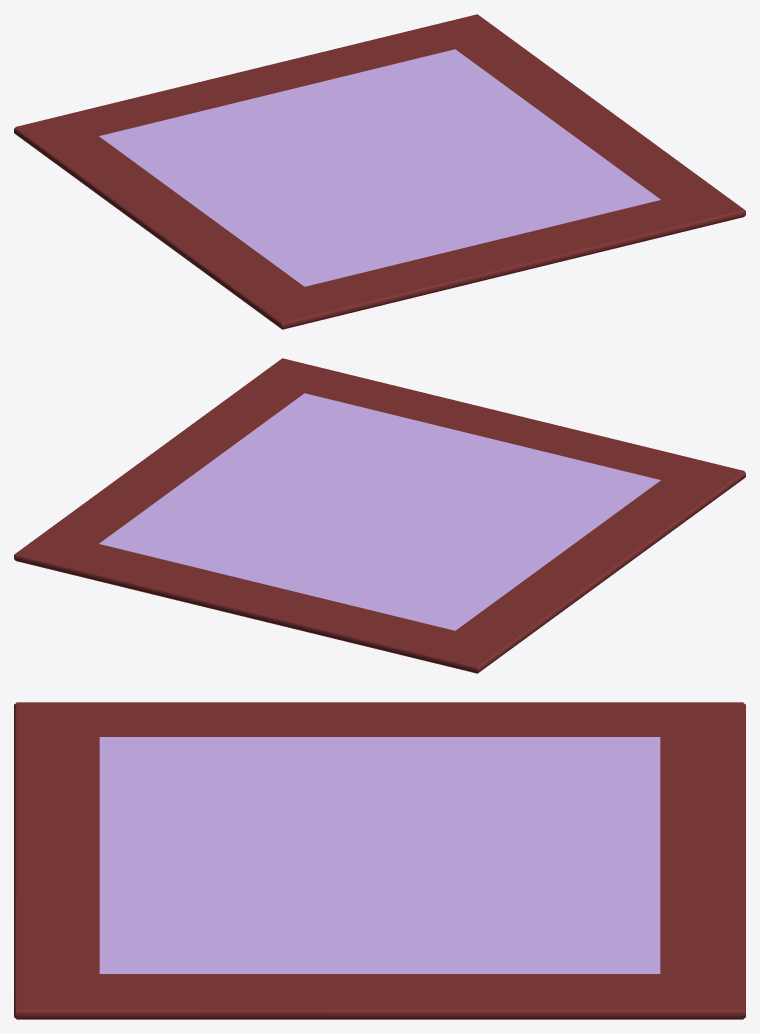
File: Vinyl_box_2.glb
3 renders of one model, top to bottom at view 1: azimuth 30°, elevation 25°; view 2: azimuth 150°, elevation 25°; view 3: azimuth 270°, elevation 25°, orthographic. The views are drawn at different scales.
Parts seen in each view (by area): view 1: Vinyl_box_2; view 2: Vinyl_box_2; view 3: Vinyl_box_2.
Part boxes in pixels (<box>): Vinyl_box_2: <box>14,14,745,329</box>; Vinyl_box_2: <box>14,358,745,673</box>; Vinyl_box_2: <box>14,702,745,1019</box>.
Bounding box in the file's own units: 0.2944 × 0.00473 × 0.2944.
1 material, 1 textured.
